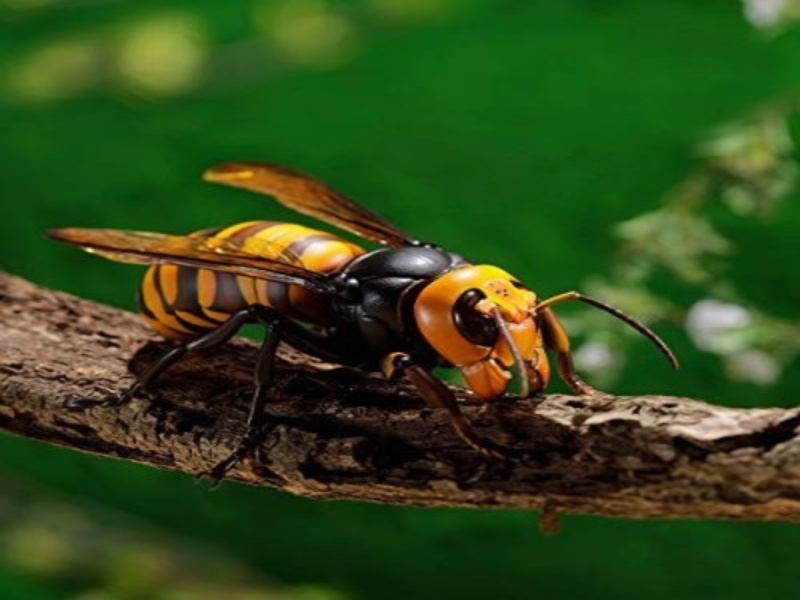asian_giant_hornet: (132, 213, 580, 405)
